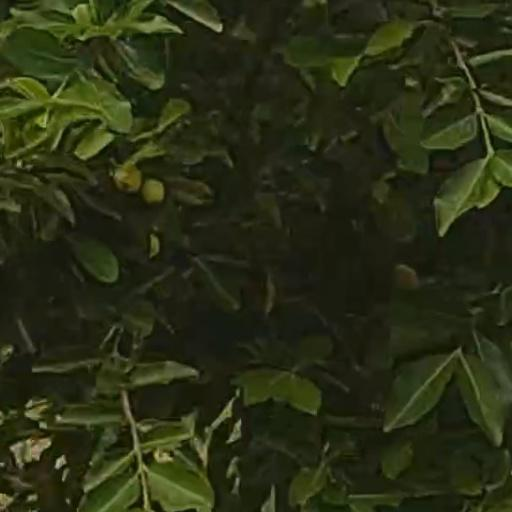acerola_verde: (114, 166, 140, 192)
